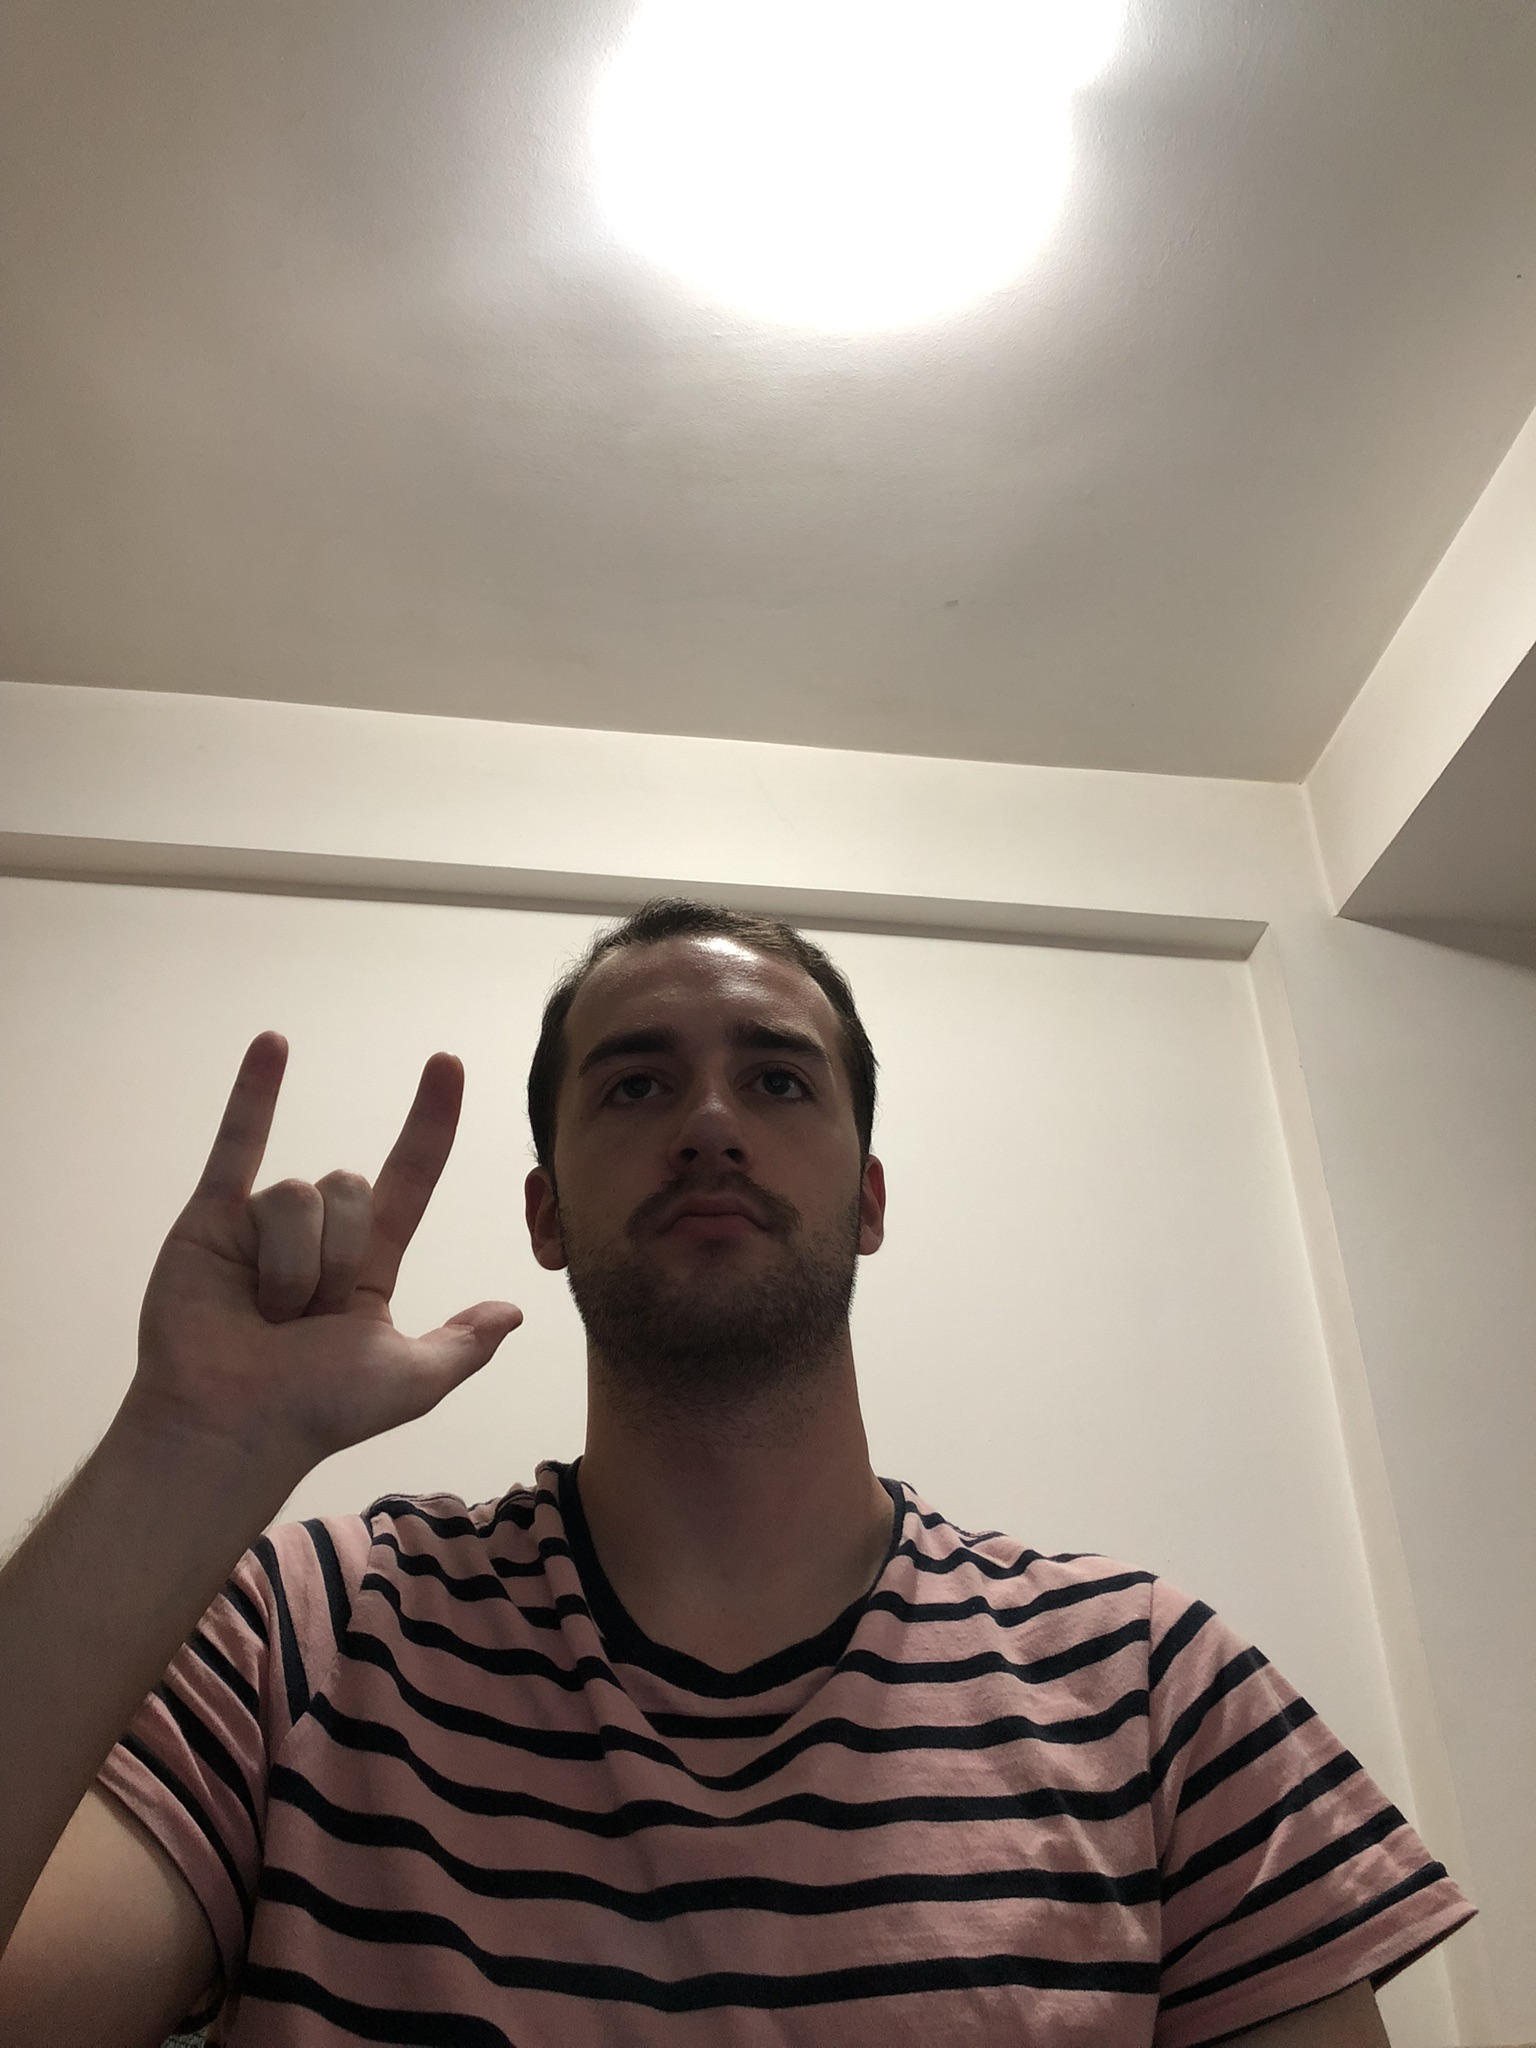I Love You: (106, 1021, 541, 1484)
